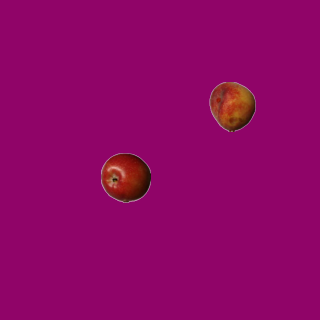Apple Braeburn: (100, 152, 150, 202)
Peach: (207, 81, 257, 131)
